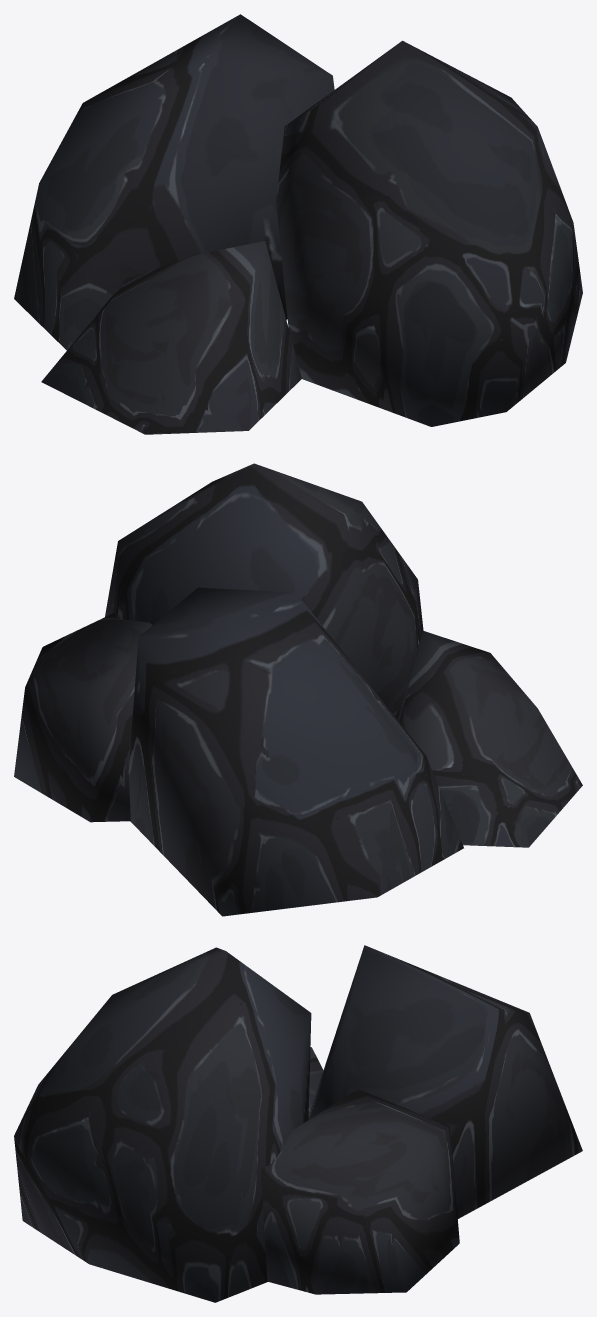
Rendered from SM_PROP_debris_stones_dungeon_04.fbx.
3 views of the same model, one above another, from view 1: azimuth 30°, elevation 25°; view 2: azimuth 150°, elevation 25°; view 3: azimuth 270°, elevation 25° (orthographic). The views are drawn at different scales.
Visible parts, largest first — view 1: SM_PROP_debris_stones_dungeon_04; view 2: SM_PROP_debris_stones_dungeon_04; view 3: SM_PROP_debris_stones_dungeon_04.
Part boxes in pixels (bbox=[...]): SM_PROP_debris_stones_dungeon_04: bbox=[14, 14, 582, 434]; SM_PROP_debris_stones_dungeon_04: bbox=[14, 463, 582, 916]; SM_PROP_debris_stones_dungeon_04: bbox=[14, 945, 582, 1302].
Bounding box in the file's own units: 196 × 109 × 208.
